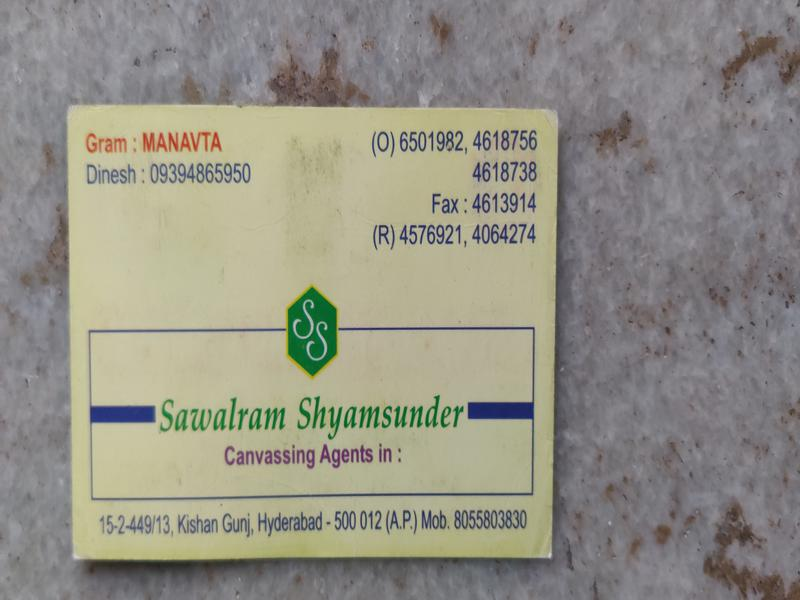card: (56, 93, 565, 567)
